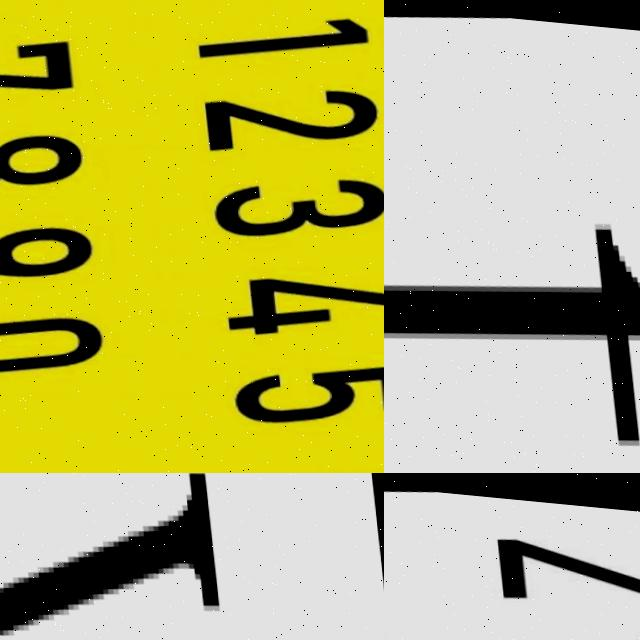0: (0, 279, 121, 403)
1: (178, 0, 383, 71), (491, 606, 640, 640)
2: (178, 49, 384, 165)
3: (195, 137, 384, 253)
4: (202, 232, 384, 347)
5: (220, 328, 384, 439)
7: (0, 11, 107, 123)
8: (0, 99, 111, 214)
9: (0, 192, 117, 306)
T: (384, 167, 640, 473)
W: (0, 473, 284, 640)
